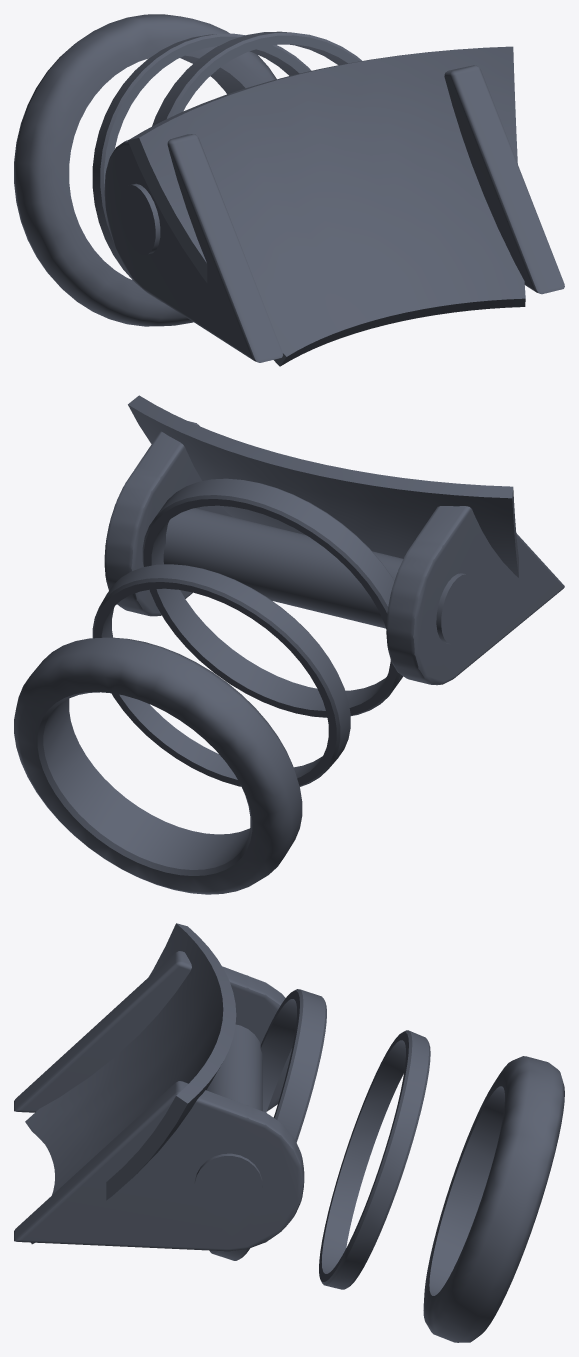
File: EV_CannonMetal.obj
3 renders of one model, top to bottom at view 1: azimuth 30°, elevation 25°; view 2: azimuth 150°, elevation 25°; view 3: azimuth 270°, elevation 25°, orthographic. The views are drawn at different scales.
Visible parts, largest first — view 1: EV_CannonMetal; view 2: EV_CannonMetal; view 3: EV_CannonMetal.
Boxes of the visible parts, x1=… form: EV_CannonMetal: x1=14, y1=14, x2=564, y2=366; EV_CannonMetal: x1=14, y1=395, x2=564, y2=894; EV_CannonMetal: x1=14, y1=923, x2=564, y2=1342.
Size of the model in its own units: 3.21 by 2.75 by 4.21.
